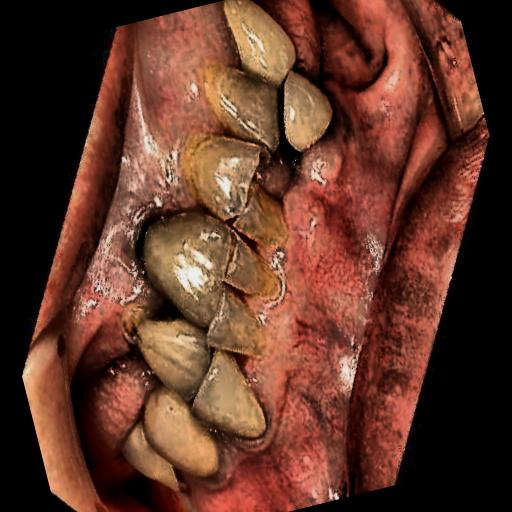Calculus: (149, 0, 370, 333), (96, 181, 302, 422)
